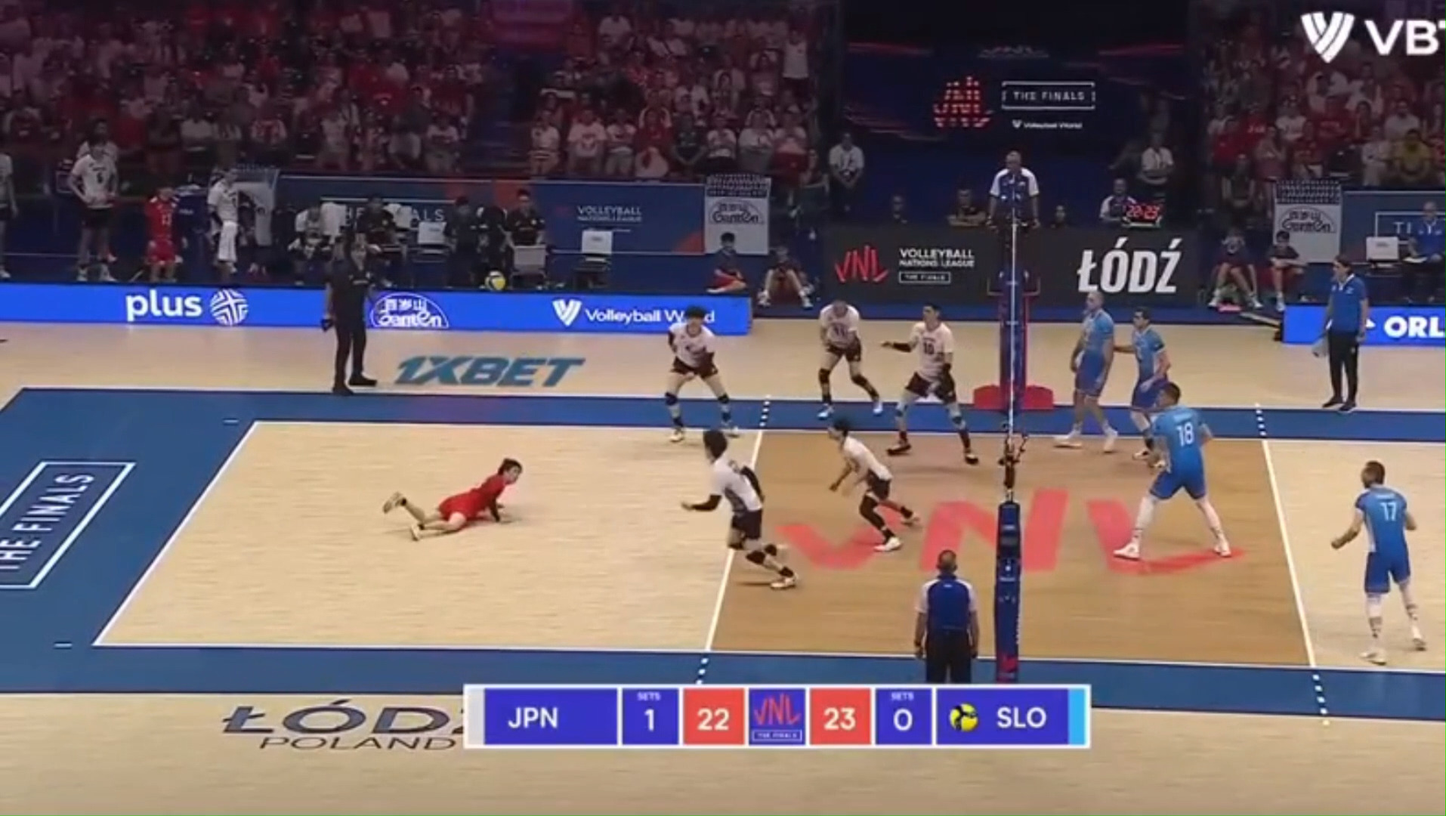ball: (484, 269, 508, 291)
player: (1114, 382, 1231, 559), (1330, 460, 1426, 665), (1055, 291, 1117, 452), (1116, 309, 1169, 448)
player 1: (681, 428, 796, 589), (884, 305, 978, 465), (829, 417, 917, 552), (383, 458, 523, 539), (664, 306, 738, 443), (817, 299, 881, 419)
referee: (322, 232, 381, 395), (914, 550, 978, 684), (987, 151, 1042, 297), (1322, 258, 1369, 412)
